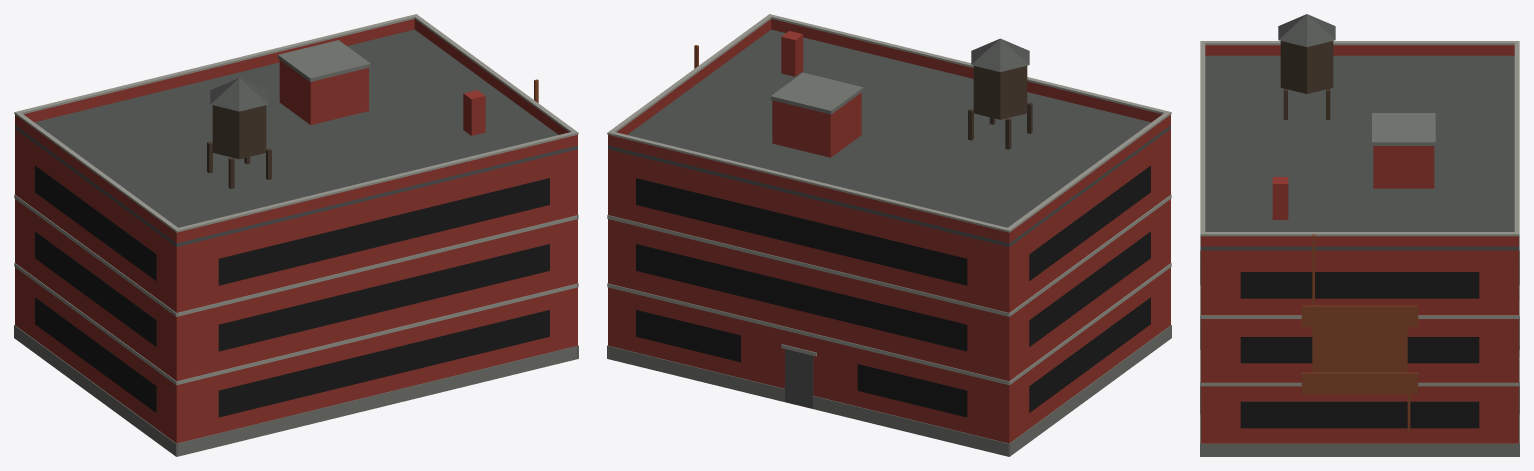
Rendered from apartment_lod1.glb.
3 renders of one model, left to right at view 1: azimuth 30°, elevation 25°; view 2: azimuth 150°, elevation 25°; view 3: azimuth 270°, elevation 25°, orthographic.
Visible parts, largest first — view 1: apartment_lod1; view 2: apartment_lod1; view 3: apartment_lod1.
Boxes of the visible parts, left/top/right/bottom form: apartment_lod1: left=14, top=14, right=578, bottom=456; apartment_lod1: left=607, top=14, right=1171, bottom=456; apartment_lod1: left=1200, top=14, right=1519, bottom=456.
Size of what is drawn, in the model's own units: 18.03 by 12.75 by 12.06.
2 materials, 2 textured.
